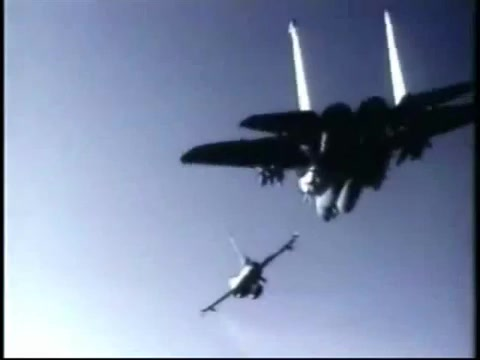aeroplane: (201, 233, 301, 315)
